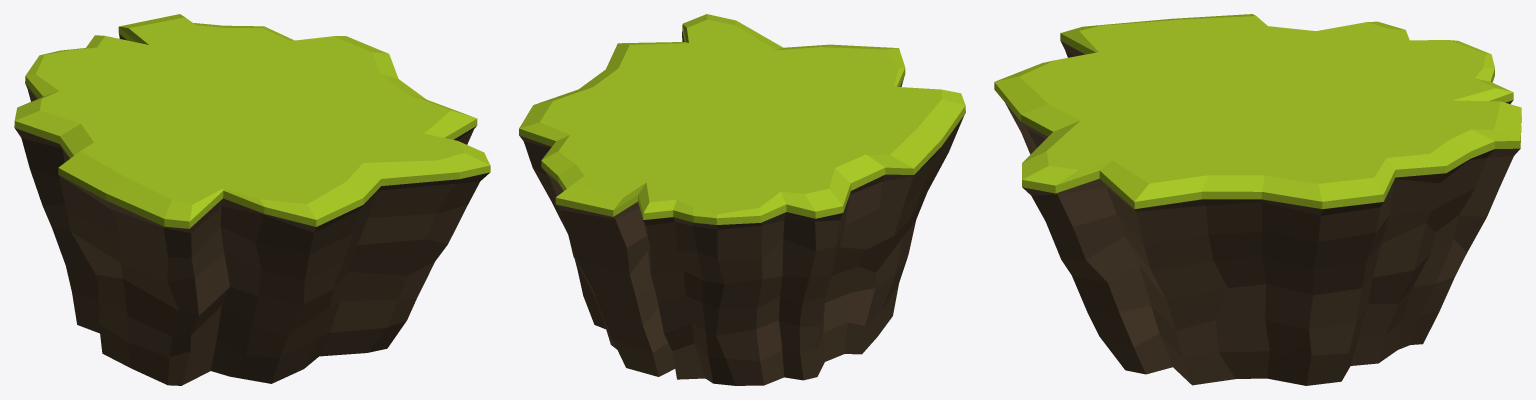
File: Cliff1.fbx
The picture shows the model from 3 angles, left to right: view 1: azimuth 30°, elevation 25°; view 2: azimuth 150°, elevation 25°; view 3: azimuth 270°, elevation 25°; orthographic projection. The views are drawn at different scales.
Visible parts, largest first — view 1: Cliff_Large_1; view 2: Cliff_Large_1; view 3: Cliff_Large_1.
Boxes of the visible parts, x1,y1,x2,y2 form: Cliff_Large_1: (14,14,490,385); Cliff_Large_1: (519,14,965,385); Cliff_Large_1: (994,14,1521,385).
Bounding box in the file's own units: 15.74 × 8.8 × 18.55.
